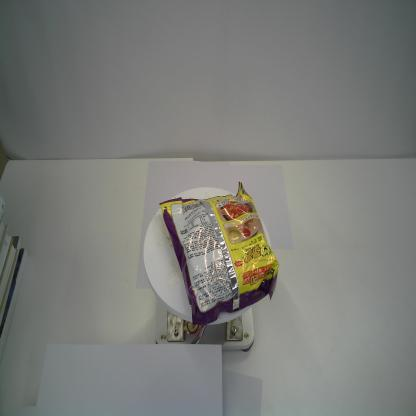Instant Noodles: (158, 179, 280, 327)
